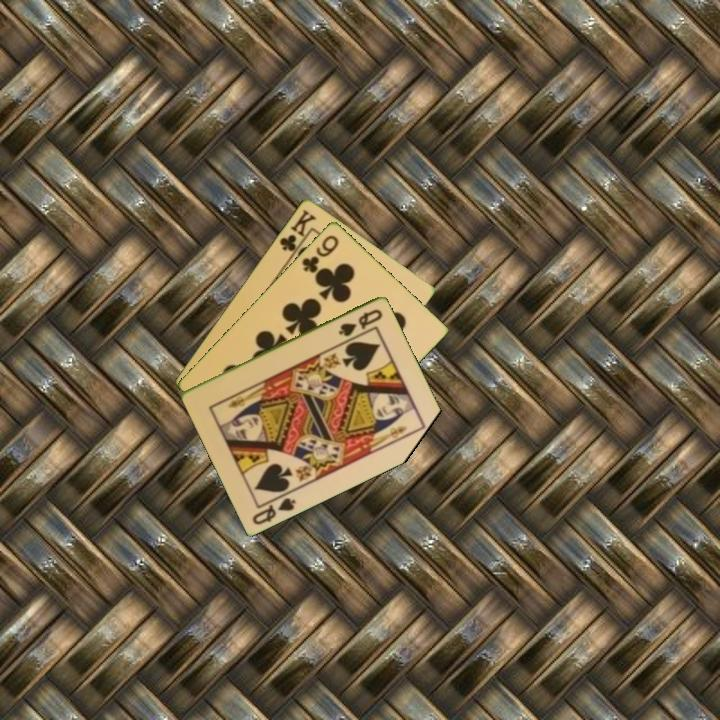9c: (298, 231, 342, 276)
Kc: (276, 205, 319, 260)
Qs: (335, 305, 386, 339), (249, 493, 299, 527)
